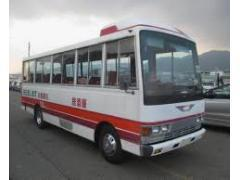bus: (19, 23, 206, 163)
